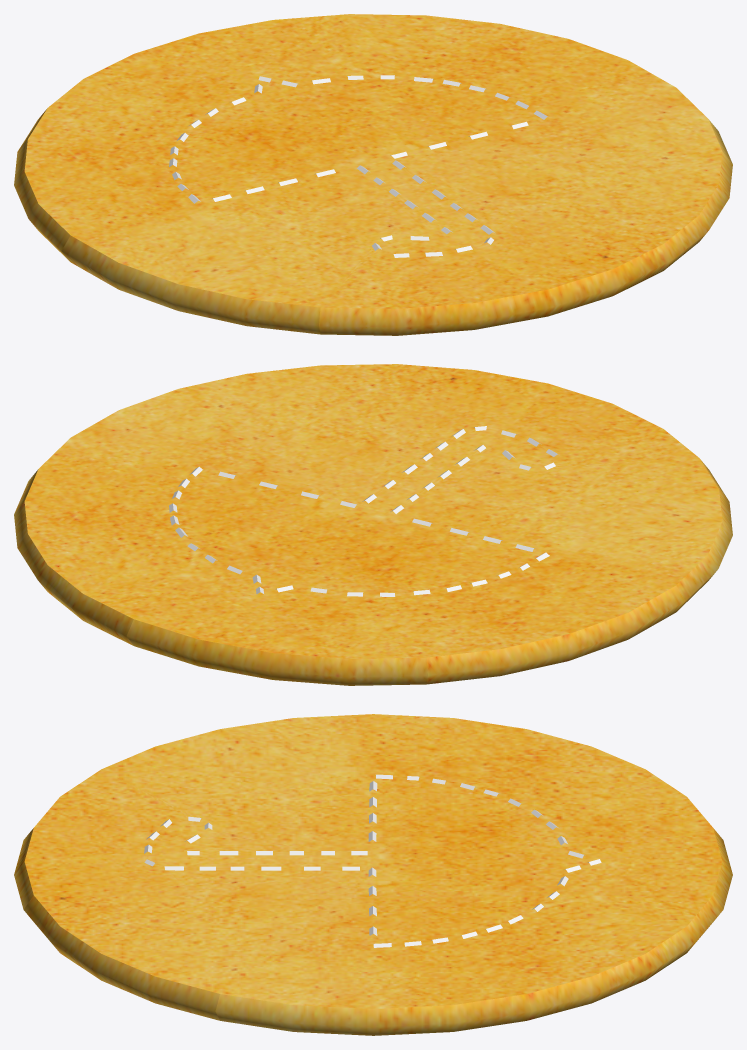
File: KeoO 1.fbx
3 views of the same model, one above another, from view 1: azimuth 30°, elevation 25°; view 2: azimuth 150°, elevation 25°; view 3: azimuth 270°, elevation 25° (orthographic).
Visible parts, largest first — view 1: KeoO, ONetDut; view 2: KeoO, ONetDut; view 3: KeoO, ONetDut.
Boxes of the visible parts, x1=… form: KeoO: x1=14, y1=14, x2=732, y2=335; ONetDut: x1=169, y1=75, x2=547, y2=257; KeoO: x1=14, y1=364, x2=732, y2=685; ONetDut: x1=169, y1=426, x2=558, y2=596; KeoO: x1=14, y1=714, x2=732, y2=1035; ONetDut: x1=144, y1=774, x2=601, y2=947.
Bounding box in the file's own units: 140 × 6.32 × 140.
2 materials, 1 textured.
